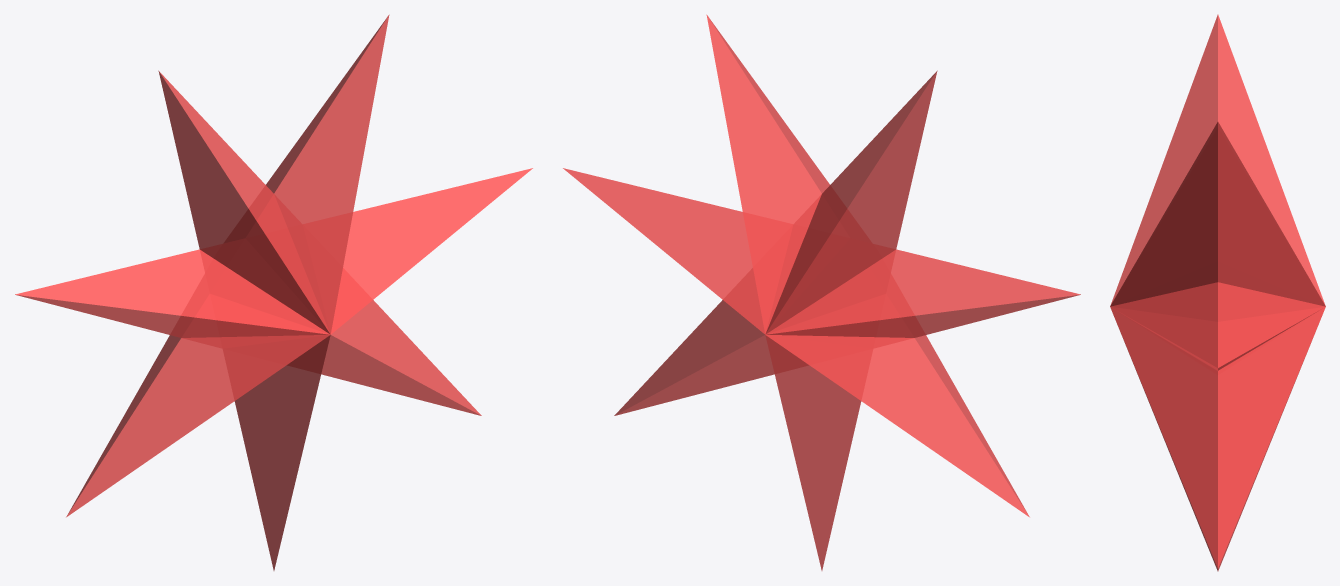
Rendered from fractalheptagrammicdipyramid0.glb.
3 renders of one model, left to right at view 1: azimuth 30°, elevation 25°; view 2: azimuth 150°, elevation 25°; view 3: azimuth 270°, elevation 25°, orthographic. The views are drawn at different scales.
Bounding box in the file's own units: 12.56 × 12.24 × 4.75.
